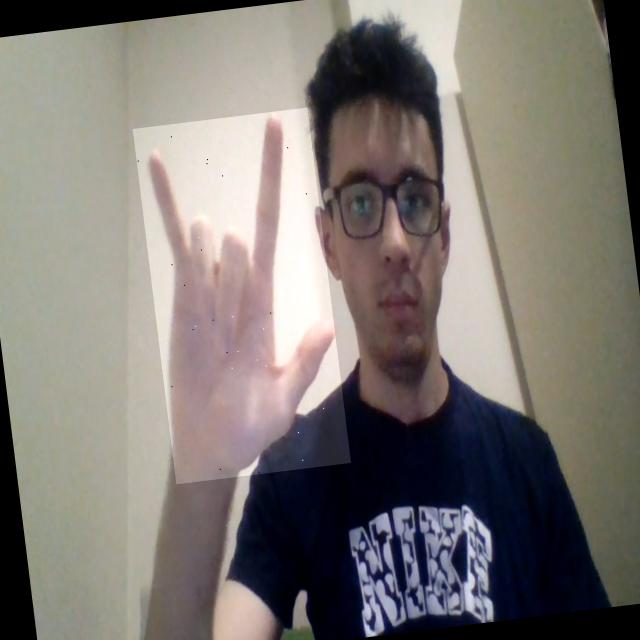iloveyou: (132, 107, 350, 484)
